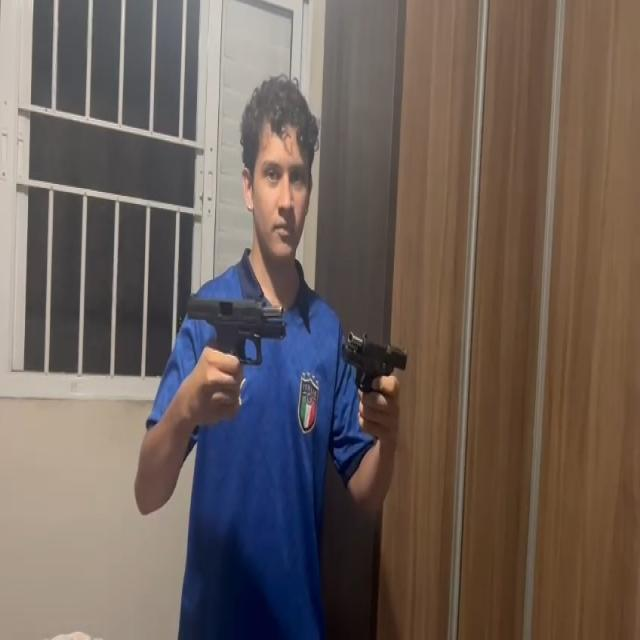gun: (186, 292, 288, 378), (342, 326, 412, 392)
